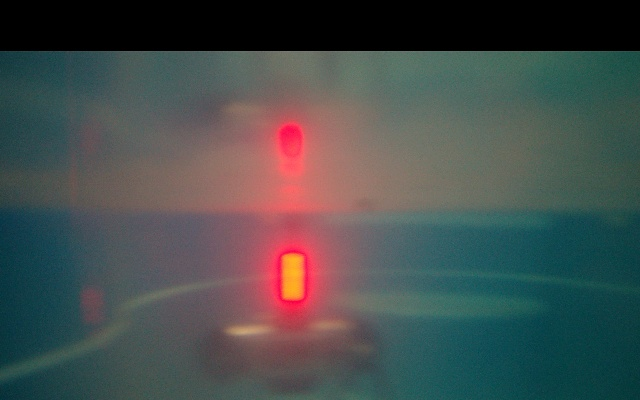red: (281, 253, 306, 309)
